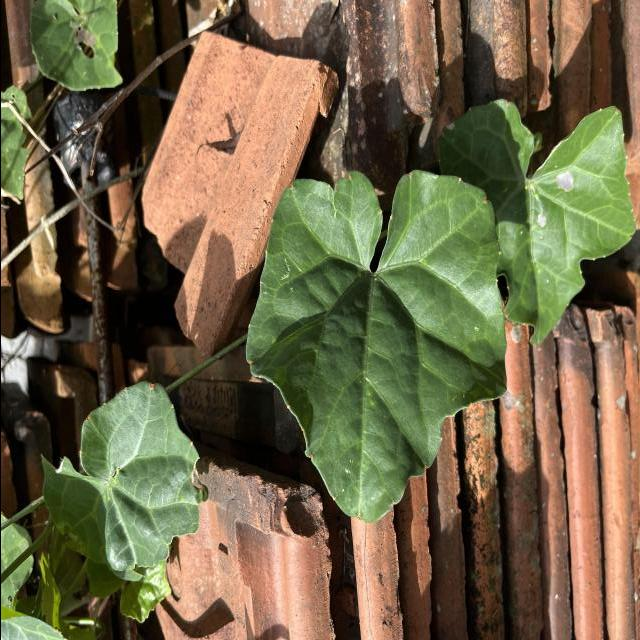Coccinia grandis: (242, 168, 509, 526)
